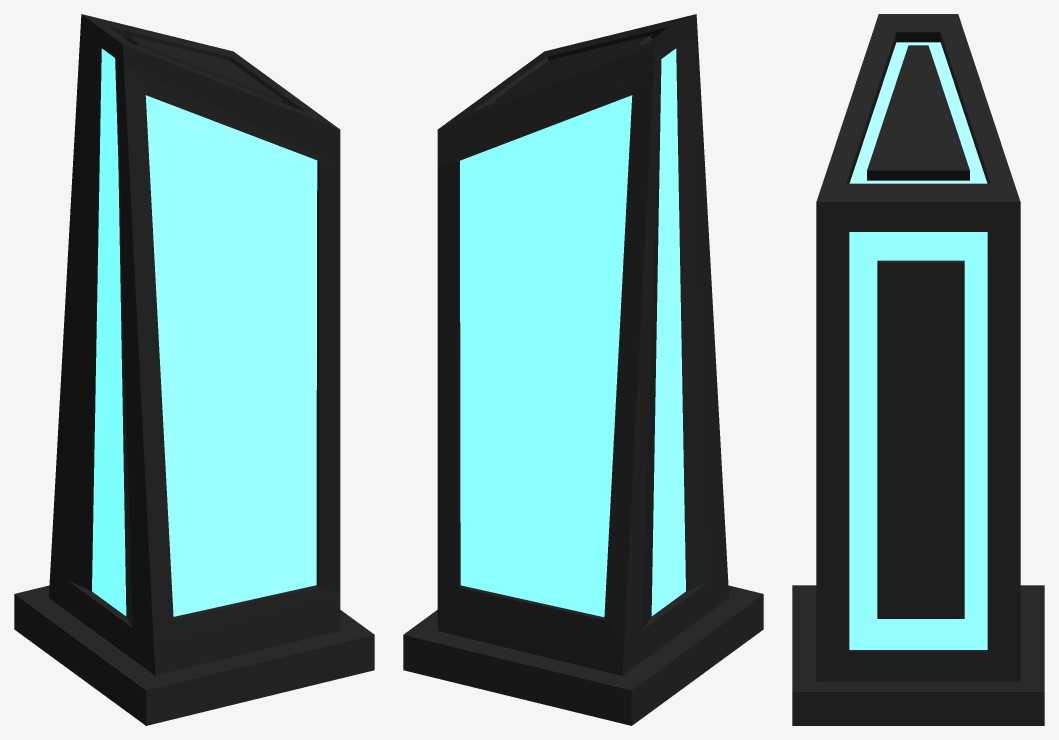
Rendered from button.fbx.
3 views of the same model, side by side, from view 1: azimuth 30°, elevation 25°; view 2: azimuth 150°, elevation 25°; view 3: azimuth 270°, elevation 25° (orthographic). The views are drawn at different scales.
Parts seen in each view (by area): view 1: Button; view 2: Button; view 3: Button.
Part boxes in pixels (x1,y1,x2,y2): Button: (14,14,374,725); Button: (403,14,763,725); Button: (792,14,1044,725).
Size of the model in its own units: 200 by 538 by 200.
